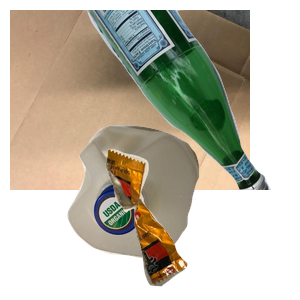cardboard: (10, 10, 250, 190)
glass: (75, 10, 300, 190)
plastic: (65, 123, 257, 300)
trash: (103, 147, 300, 300)
